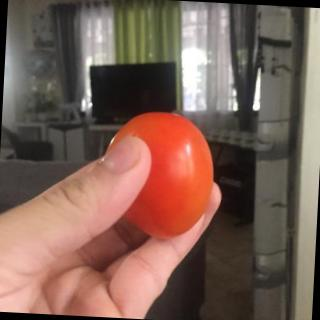Tomat: (85, 100, 244, 251)
